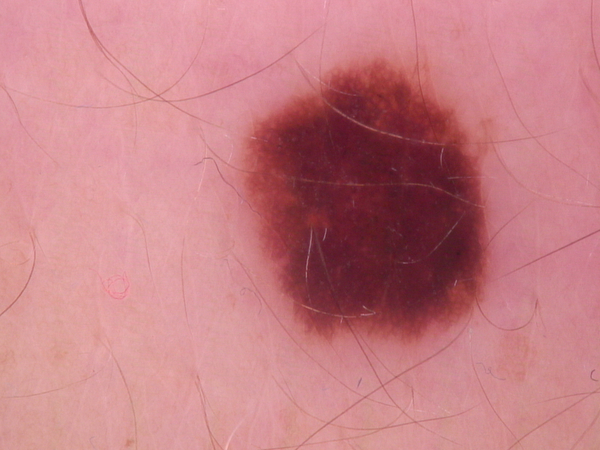Detected Lesion: (240, 57, 497, 347)
